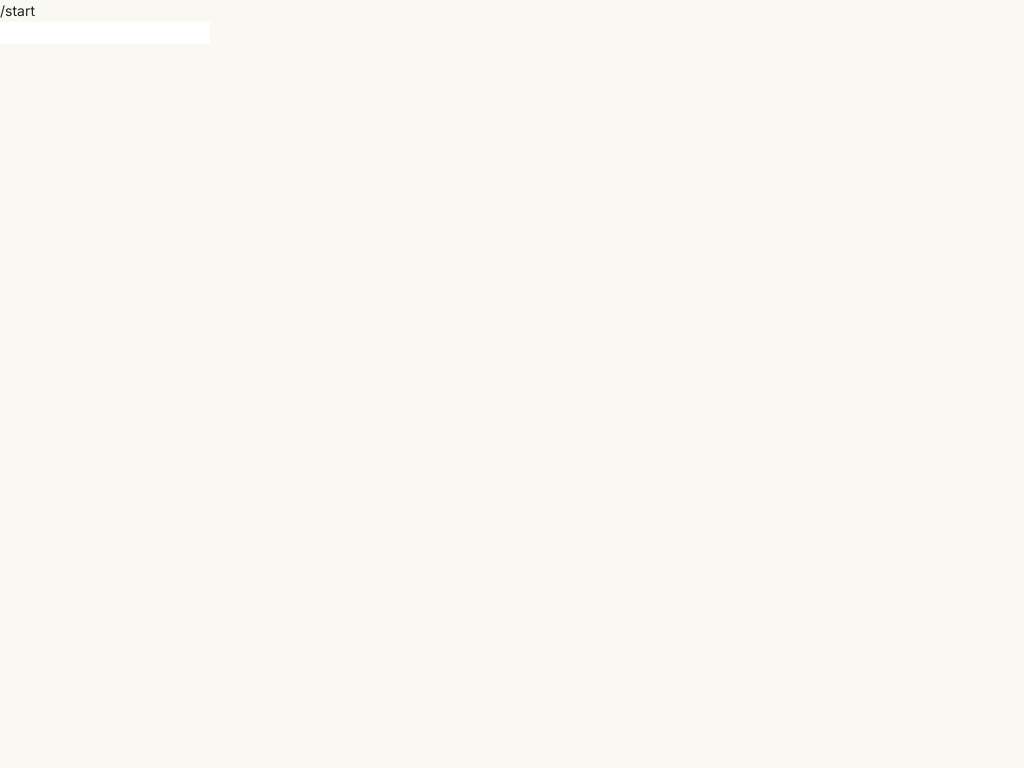
Test case: command palette › opens with Ctrl+K, filters pages and navigates with Enter
Press k
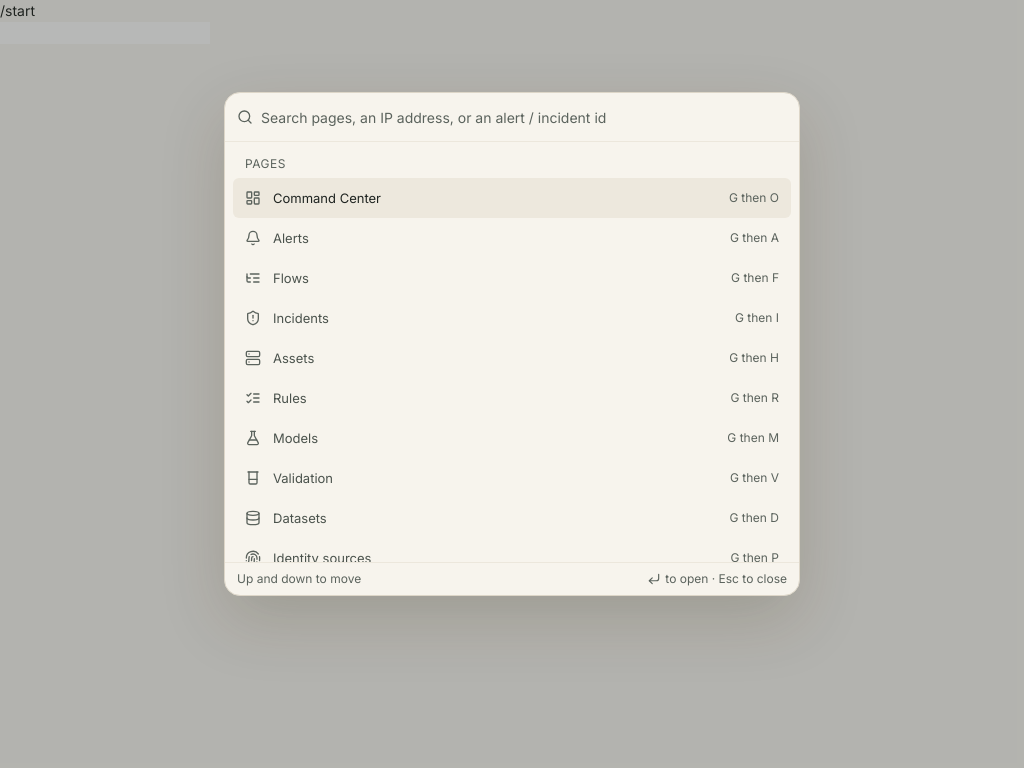
Type "alert" into the dropdown labelled "Search pages, an IP address, or an alert / incident id". click: (524, 117)
box: x1=261 y1=93 x2=787 y2=141
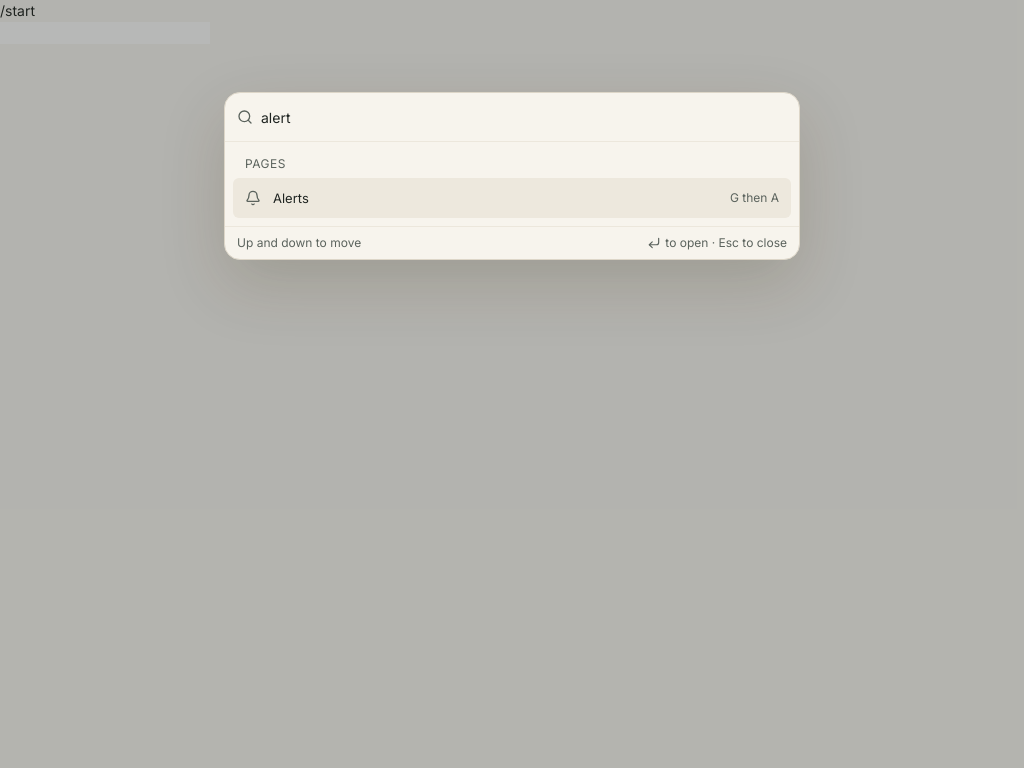
Press Enter in the dropdown named "Search pages", box x1=261 y1=93 x2=787 y2=141
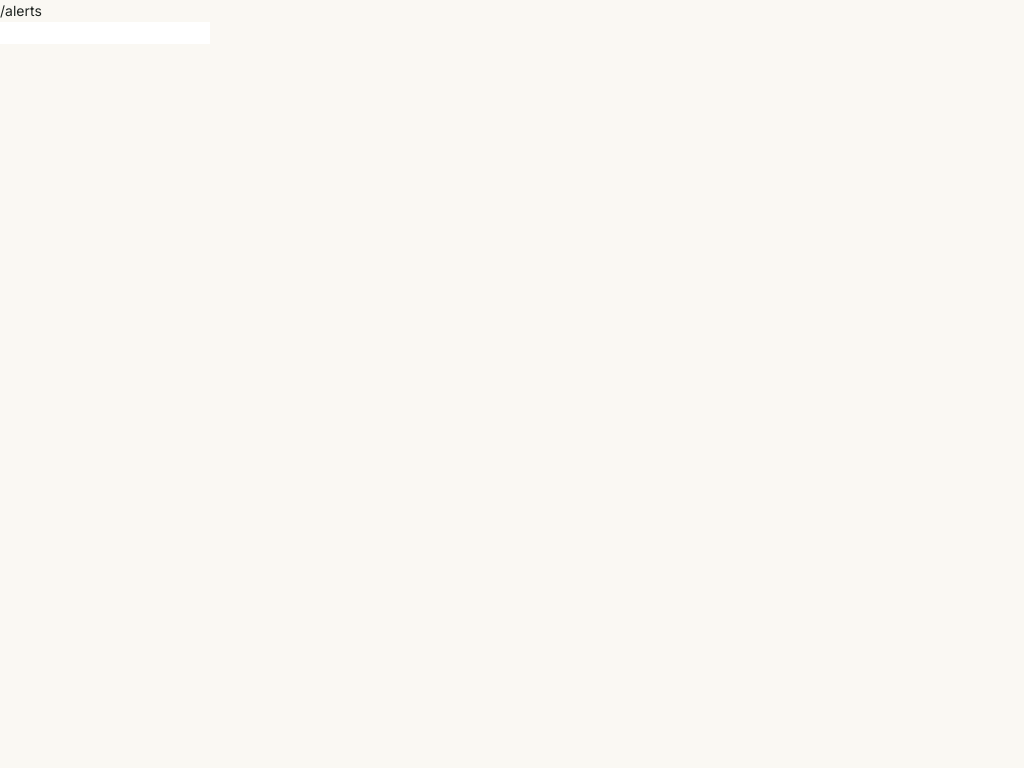
Expected: the dialog "Command palette" is not shown
Now the text with test id "where" reads "/alerts", box x1=0 y1=2 x2=42 y2=19
